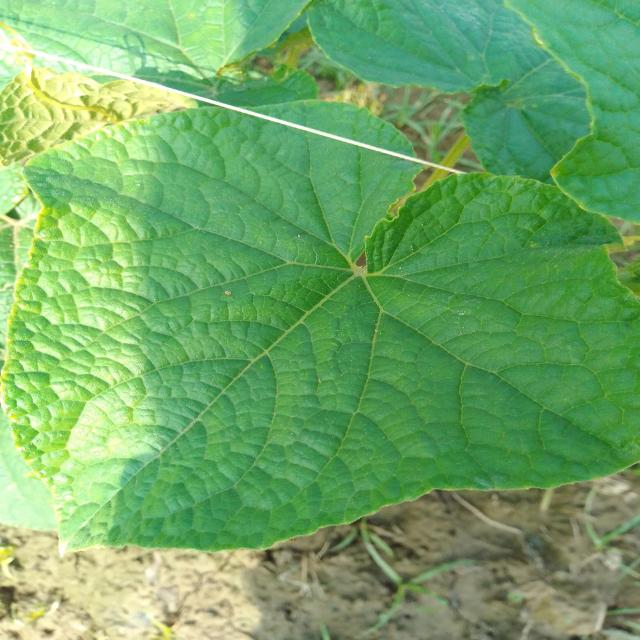cucumber_healthy: (4, 99, 640, 563), (295, 0, 640, 221)
